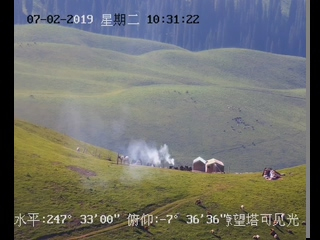smoke: (126, 137, 176, 167)
